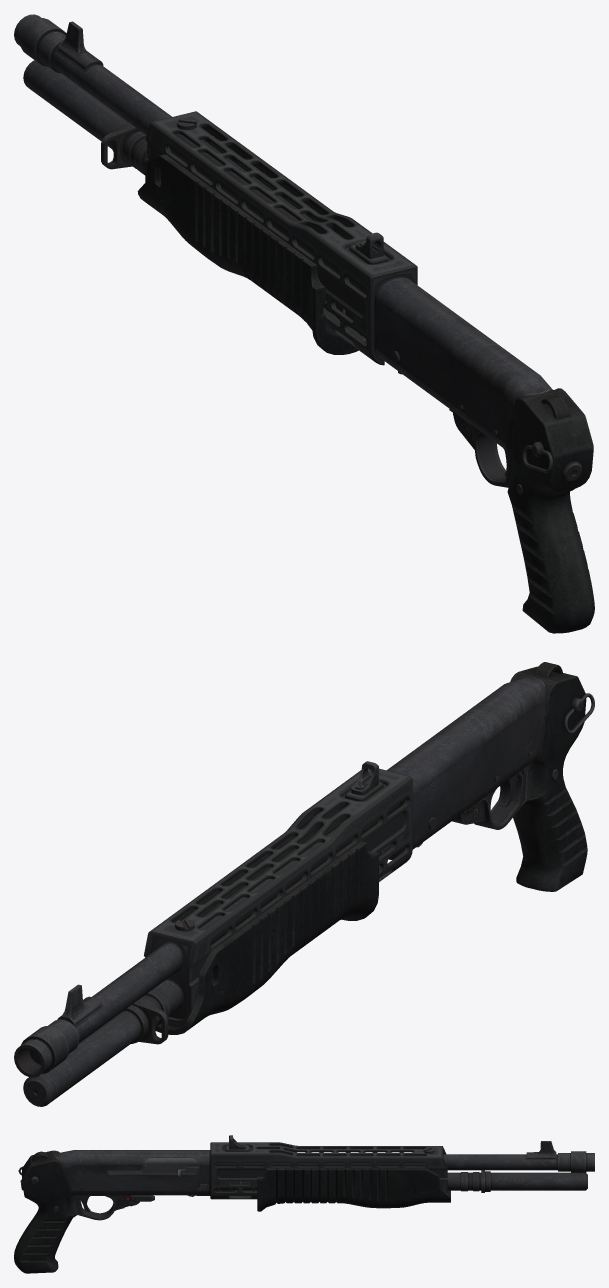
File: w_spas.glb
The picture shows the model from 3 angles, top to bottom: view 1: azimuth 30°, elevation 25°; view 2: azimuth 150°, elevation 25°; view 3: azimuth 270°, elevation 25°; orthographic projection. The views are drawn at different scales.
Visible parts, largest first — view 1: body, pump; view 2: body, pump; view 3: body, pump.
Boxes of the visible parts, bbox=[...] form: body: bbox=[14, 14, 594, 633]; pump: bbox=[137, 154, 358, 354]; body: bbox=[14, 662, 594, 1106]; pump: bbox=[155, 841, 378, 1034]; body: bbox=[14, 1135, 594, 1273]; pump: bbox=[142, 1158, 450, 1211].
Size of the model in its own units: 0.0628 by 0.216 by 0.86.
1 material, 1 textured.
